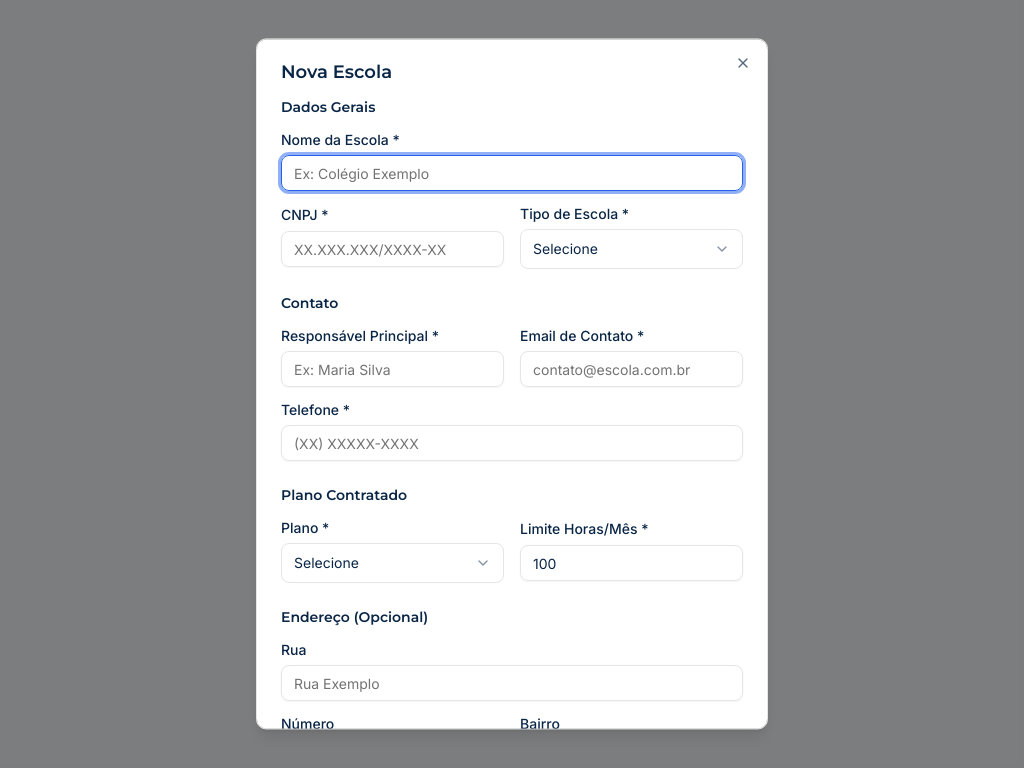
Scenario: CreateEscolaDialog › should validate CNPJ format (AC14.2)
Type "123" into the field labelled "CNPJ *" at [392, 249], box x1=281 y1=231 x2=504 y2=267
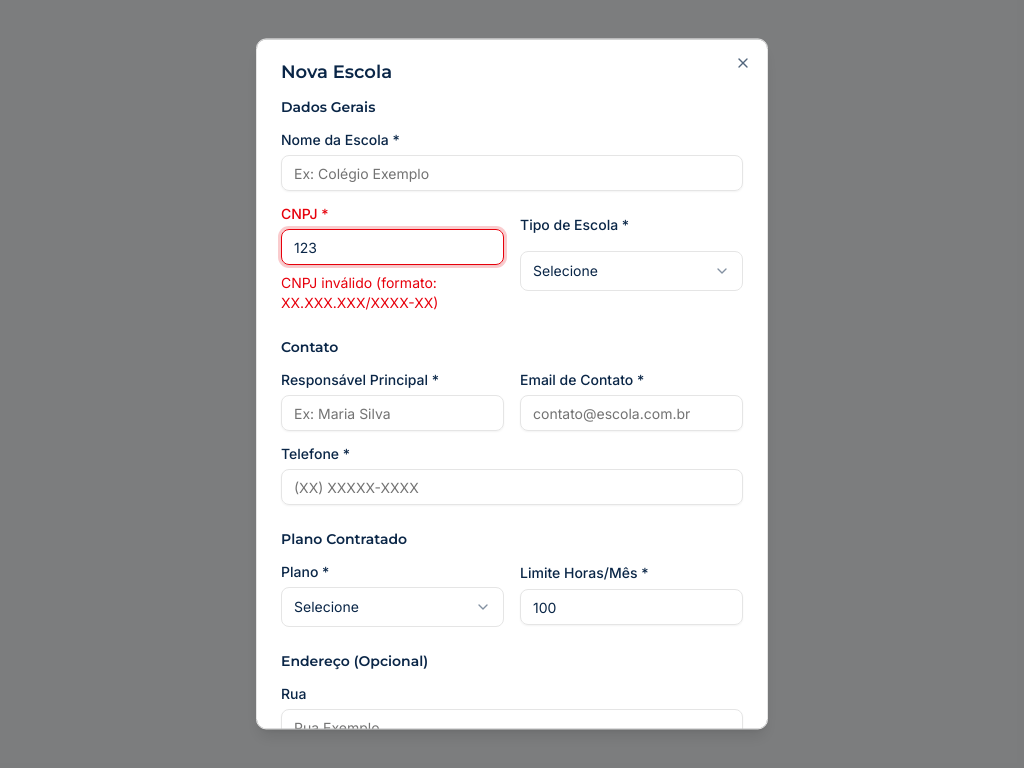
Now the text "CNPJ inválido (formato: XX.XXX.XXX/XXXX-XX)" is shown, box x1=281 y1=274 x2=438 y2=311
